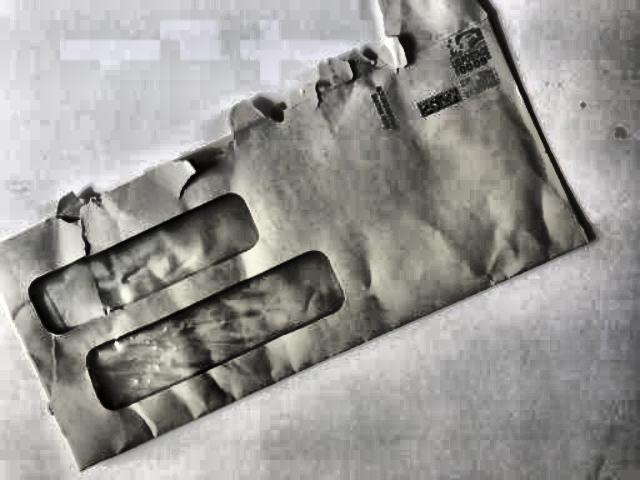Paper: (0, 4, 612, 475)
